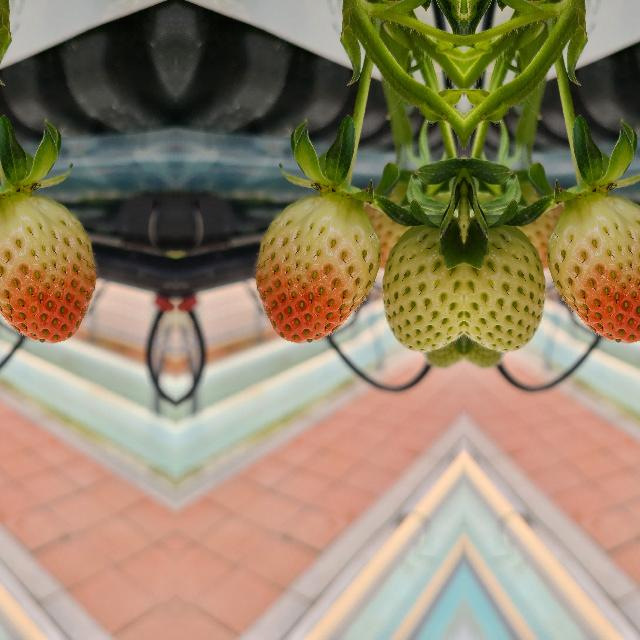Health_25: (383, 224, 463, 356), (463, 224, 543, 356)
Health_50: (254, 195, 380, 343), (0, 195, 96, 343), (546, 195, 640, 343)
